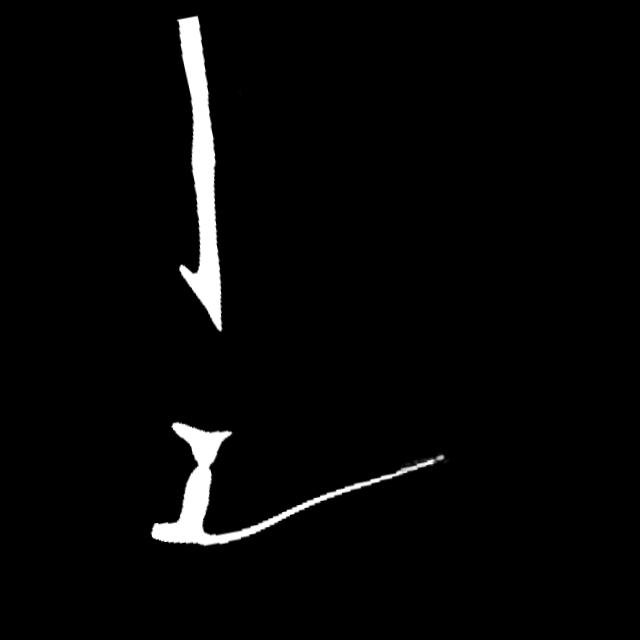stp: (409, 430, 468, 483)
